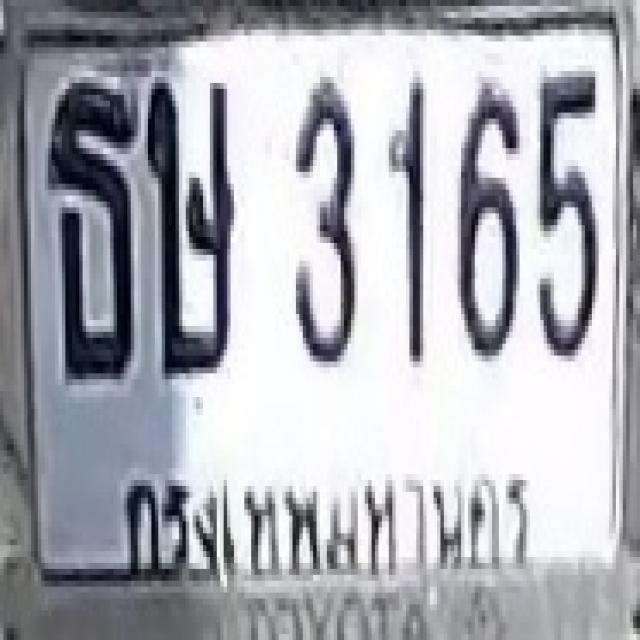1: (385, 77, 427, 367)
3: (291, 80, 356, 364)
5: (535, 68, 597, 359)
6: (454, 80, 520, 359)
A24: (44, 77, 130, 373)
A39: (144, 77, 234, 373)
BKK: (116, 435, 532, 584)
